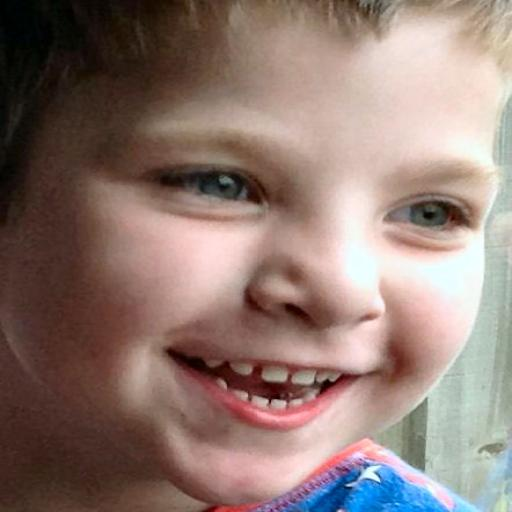Autism: (8, 9, 512, 489)
